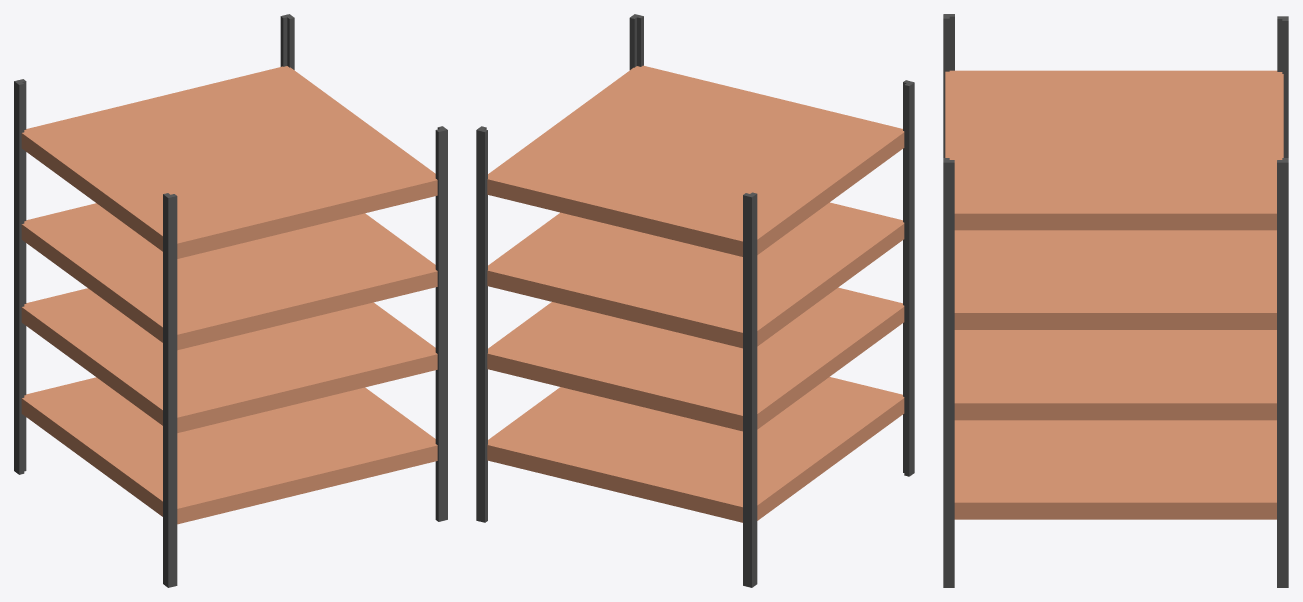
File: youngsheldon.fbx
3 views of the same model, side by side, from view 1: azimuth 30°, elevation 25°; view 2: azimuth 150°, elevation 25°; view 3: azimuth 270°, elevation 25° (orthographic). The views are drawn at different scales.
Parts seen in each view (by area): view 1: Cube.004, Cube.002; view 2: Cube.004, Cube.002; view 3: Cube.004, Cube.002.
Boxes of the visible parts, left/top/right/bottom form: Cube.004: left=21, top=66, right=437, bottom=524; Cube.002: left=14, top=14, right=447, bottom=587; Cube.004: left=487, top=65, right=904, bottom=522; Cube.002: left=476, top=14, right=914, bottom=587; Cube.004: left=945, top=70, right=1283, bottom=519; Cube.002: left=943, top=14, right=1288, bottom=587.
Bounding box in the file's own units: 1446 × 1926 × 1419.
